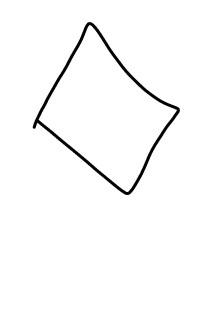Square: (29, 20, 182, 197)
